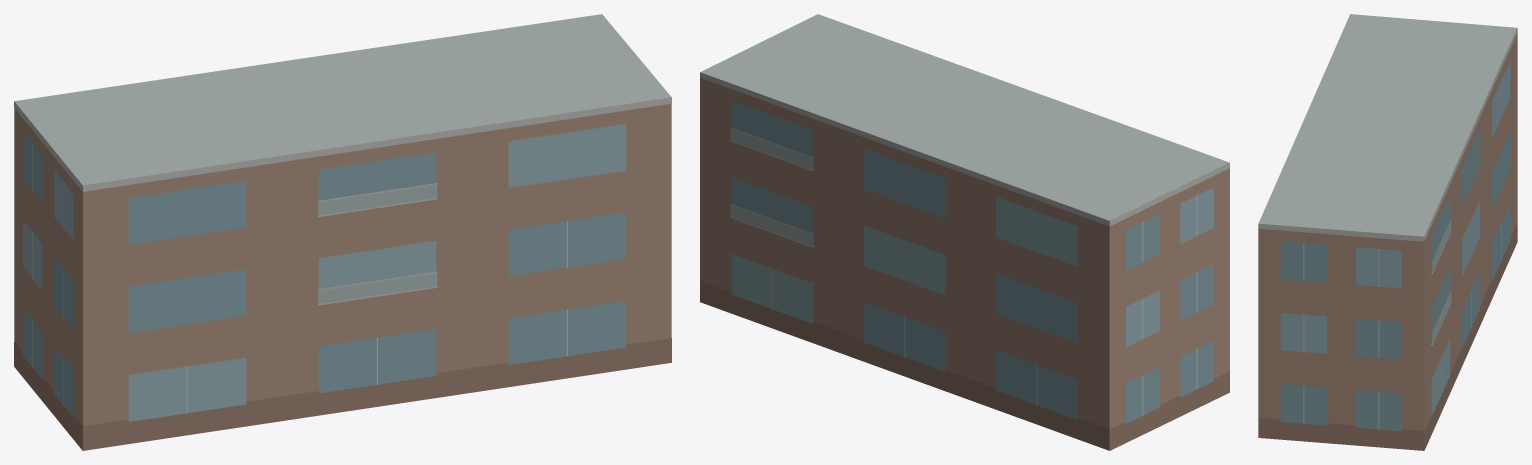
The model's file is survey-upis-32673104.glb.
3 renders of one model, left to right at view 1: azimuth 30°, elevation 25°; view 2: azimuth 150°, elevation 25°; view 3: azimuth 270°, elevation 25°, orthographic. The views are drawn at different scales.
Visible parts, largest first — view 1: survey-upis-32673104.tmp; view 2: survey-upis-32673104.tmp; view 3: survey-upis-32673104.tmp.
Boxes of the visible parts, <box> form: survey-upis-32673104.tmp: <box>14,14,671,450</box>; survey-upis-32673104.tmp: <box>700,14,1229,450</box>; survey-upis-32673104.tmp: <box>1258,14,1517,450</box>.
Size of the model in its own units: 22.75 by 10.2 by 11.2.
